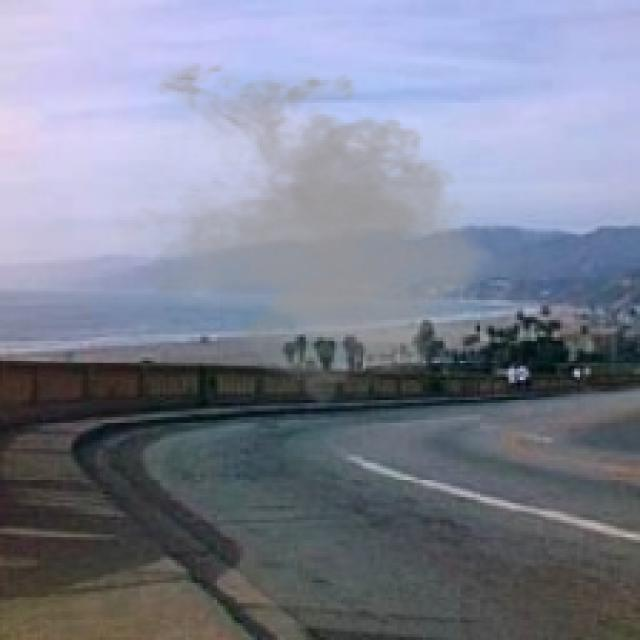smoke: (86, 51, 511, 408)
